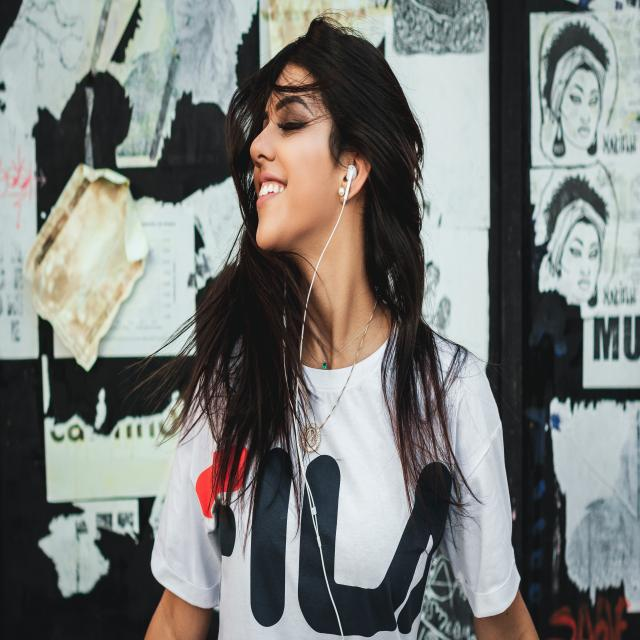Earphone: (282, 162, 356, 640)
